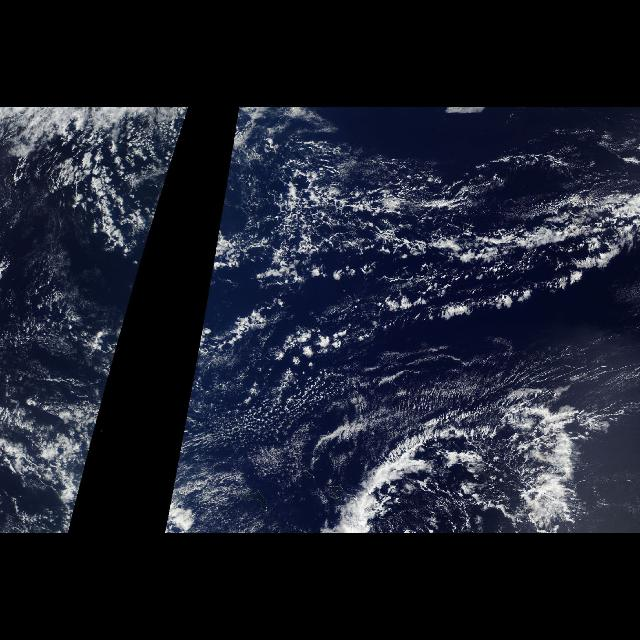Gravel: (211, 116, 629, 330), (169, 372, 375, 534)
Sugar: (218, 327, 638, 527)
